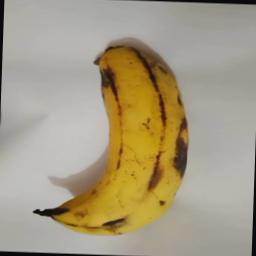Banana Unripe: (30, 42, 196, 238)
